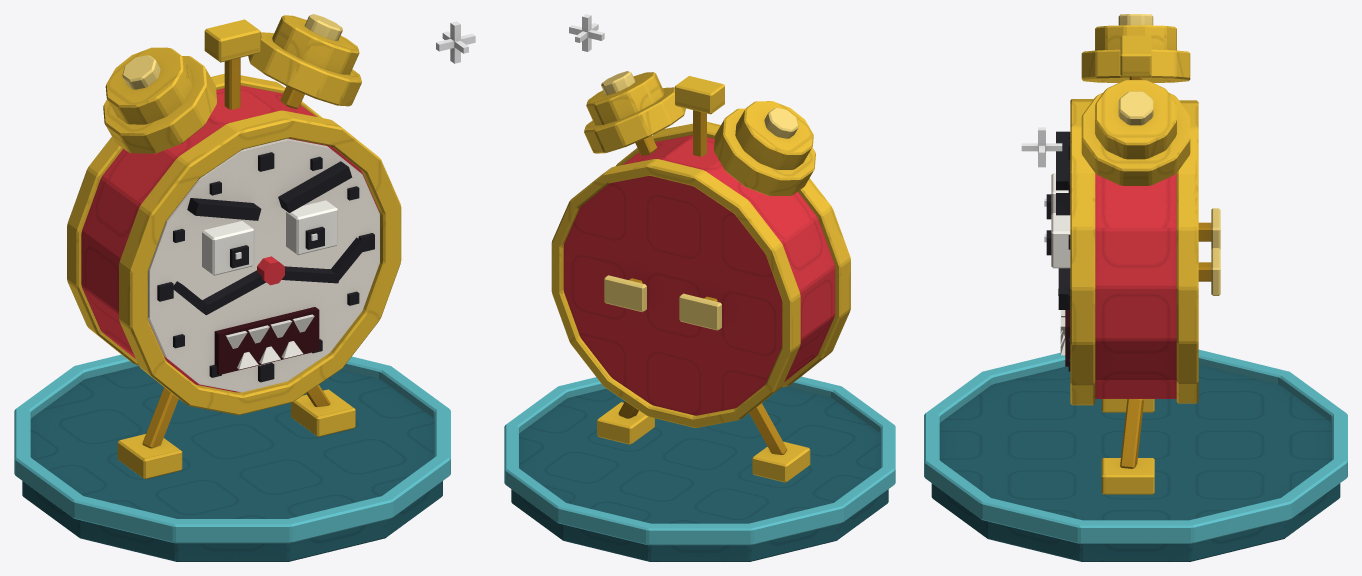
Rendered from AngryAlarmClock.fbx.
3 renders of one model, left to right at view 1: azimuth 30°, elevation 25°; view 2: azimuth 150°, elevation 25°; view 3: azimuth 270°, elevation 25°, orthographic. The views are drawn at different scales.
Parts seen in each view (by area): view 1: Art_AngryAlarmClock_Body, Art_AngryAlarmClock_Stand, Art_AngryAlarmClock_BellL, Art_AngryAlarmClock_BellR, Art_AngryAlarmClock_Mustache, Art_AngryAlarmClock_LegL, Art_AngryAlarmClock_Hammer, Art_AngryAlarmClock_EyeL, Art_AngryAlarmClock_EyeR, Art_AngryAlarmClock_LegR; view 2: Art_AngryAlarmClock_Body, Art_AngryAlarmClock_Stand, Art_AngryAlarmClock_BellL, Art_AngryAlarmClock_BellR, Art_AngryAlarmClock_LegL, Art_AngryAlarmClock_Hammer, Art_AngryAlarmClock_LegR; view 3: Art_AngryAlarmClock_Stand, Art_AngryAlarmClock_Body, Art_AngryAlarmClock_BellR, Art_AngryAlarmClock_BellL, Art_AngryAlarmClock_LegR, Art_AngryAlarmClock_Hammer, Art_AngryAlarmClock_EyeR, Art_AngryAlarmClock_LegL.
Part boxes in pixels (<box>): Art_AngryAlarmClock_Body: <box>67,73,401,415</box>; Art_AngryAlarmClock_Stand: <box>14,21,475,561</box>; Art_AngryAlarmClock_BellL: <box>103,47,216,153</box>; Art_AngryAlarmClock_BellR: <box>248,14,361,108</box>; Art_AngryAlarmClock_Mustache: <box>172,237,366,315</box>; Art_AngryAlarmClock_LegL: <box>117,387,182,479</box>; Art_AngryAlarmClock_Hammer: <box>204,19,260,109</box>; Art_AngryAlarmClock_EyeL: <box>202,221,254,275</box>; Art_AngryAlarmClock_EyeR: <box>286,200,337,255</box>; Art_AngryAlarmClock_LegR: <box>291,384,355,436</box>; Art_AngryAlarmClock_Body: <box>551,121,850,427</box>; Art_AngryAlarmClock_Stand: <box>504,14,895,561</box>; Art_AngryAlarmClock_BellL: <box>714,101,815,195</box>; Art_AngryAlarmClock_BellR: <box>584,71,685,156</box>; Art_AngryAlarmClock_LegL: <box>749,403,810,482</box>; Art_AngryAlarmClock_Hammer: <box>675,76,724,156</box>; Art_AngryAlarmClock_LegR: <box>597,401,654,444</box>; Art_AngryAlarmClock_Stand: <box>924,127,1347,561</box>; Art_AngryAlarmClock_Body: <box>1056,99,1220,405</box>; Art_AngryAlarmClock_BellR: <box>1081,80,1190,185</box>; Art_AngryAlarmClock_BellL: <box>1081,14,1190,82</box>; Art_AngryAlarmClock_LegR: <box>1101,399,1154,494</box>; Art_AngryAlarmClock_Hammer: <box>1120,35,1151,79</box>; Art_AngryAlarmClock_EyeR: <box>1044,213,1070,268</box>; Art_AngryAlarmClock_LegL: <box>1101,399,1154,412</box>.
Size of the model in its own units: 2.73 by 3.04 by 2.7.
